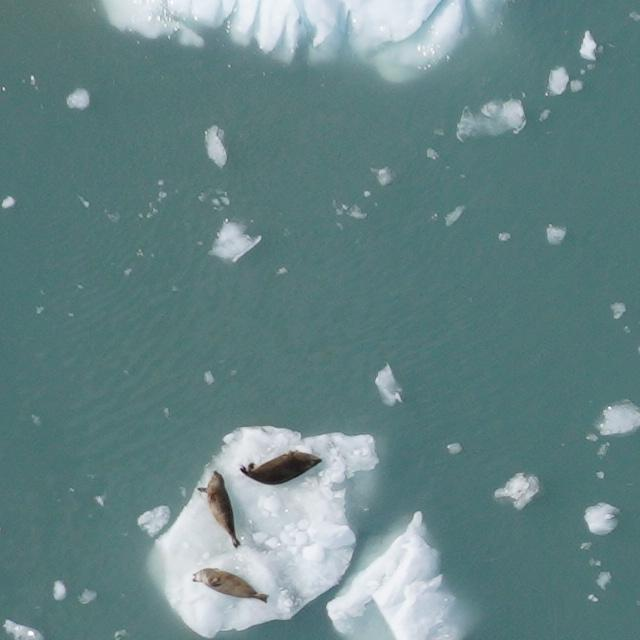seal: (193, 470, 253, 555), (238, 440, 325, 495), (190, 561, 277, 611)
